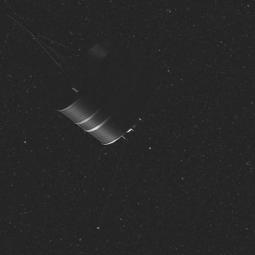double_start: (24, 24, 158, 152)
